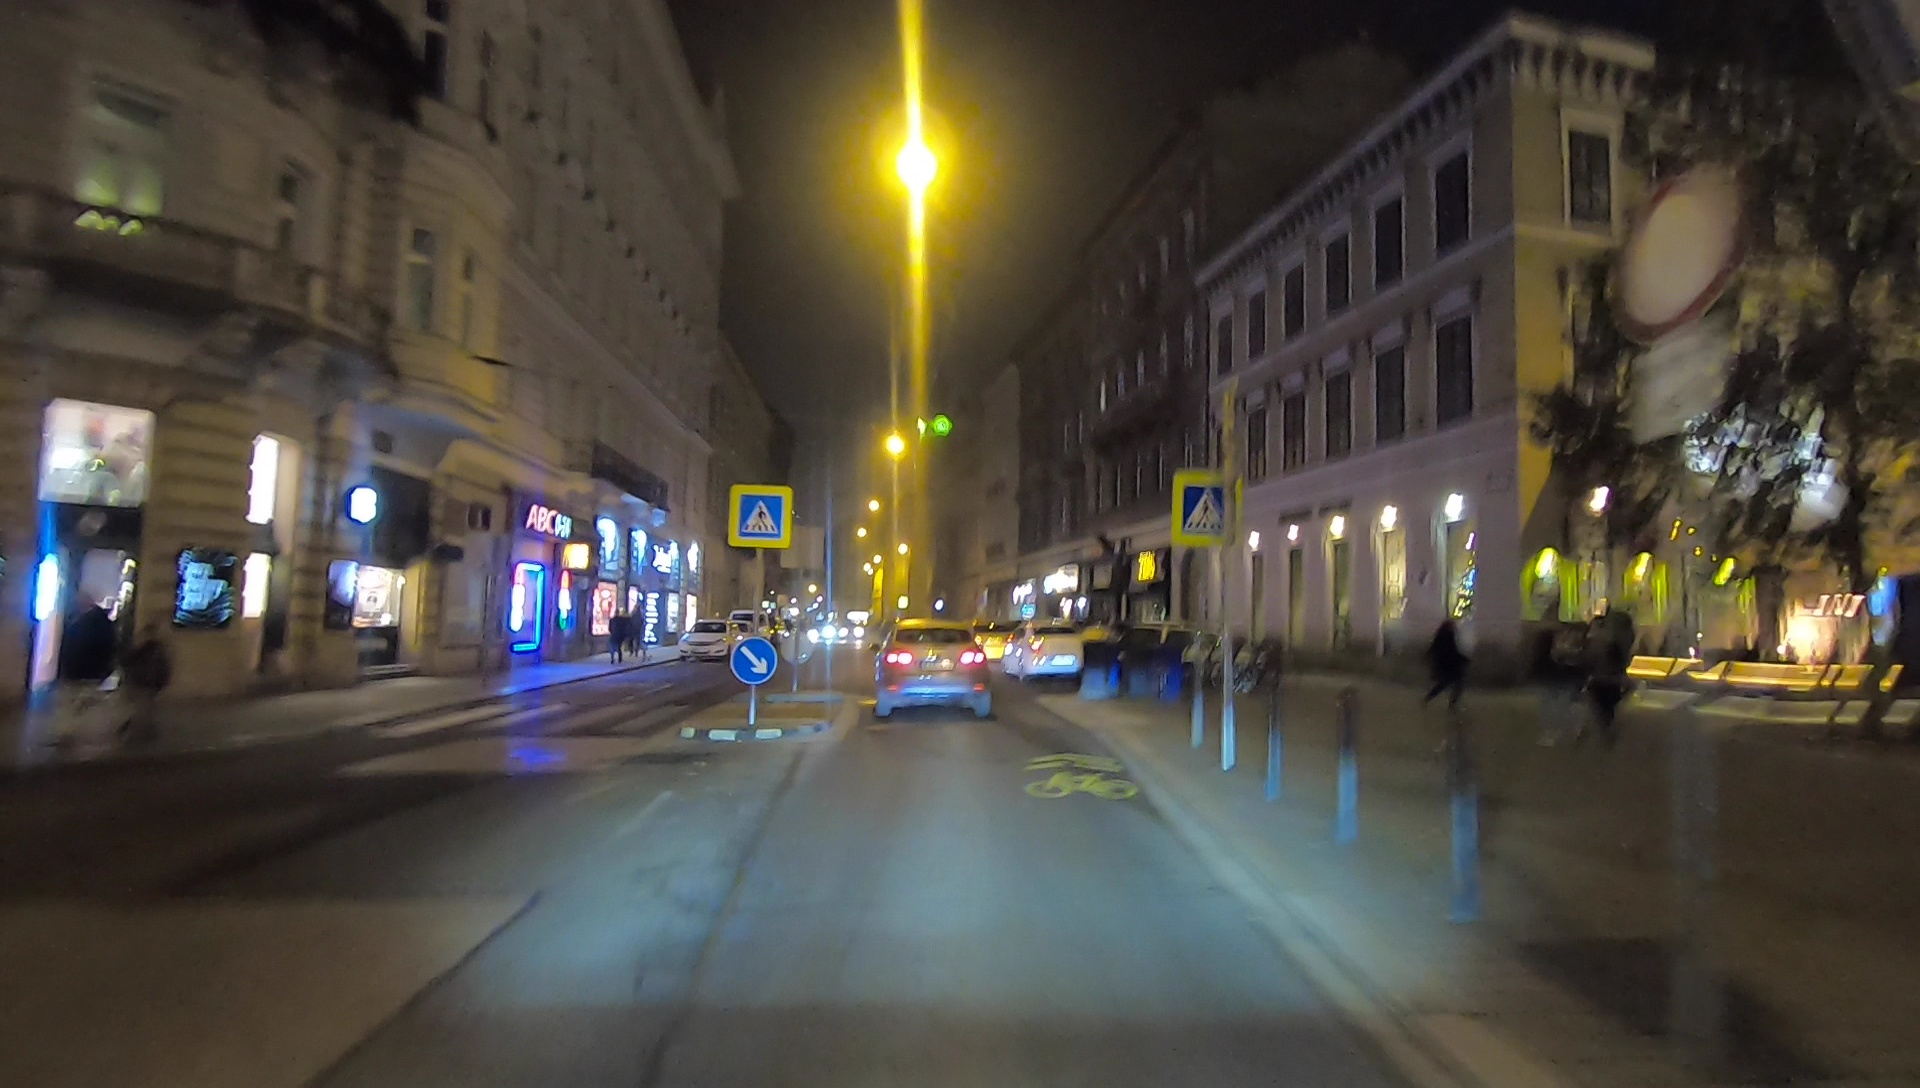person: (60, 593, 119, 758), (1536, 610, 1584, 749), (1423, 610, 1471, 713), (1593, 604, 1623, 749), (130, 623, 165, 734), (630, 608, 651, 663), (606, 610, 623, 665)
